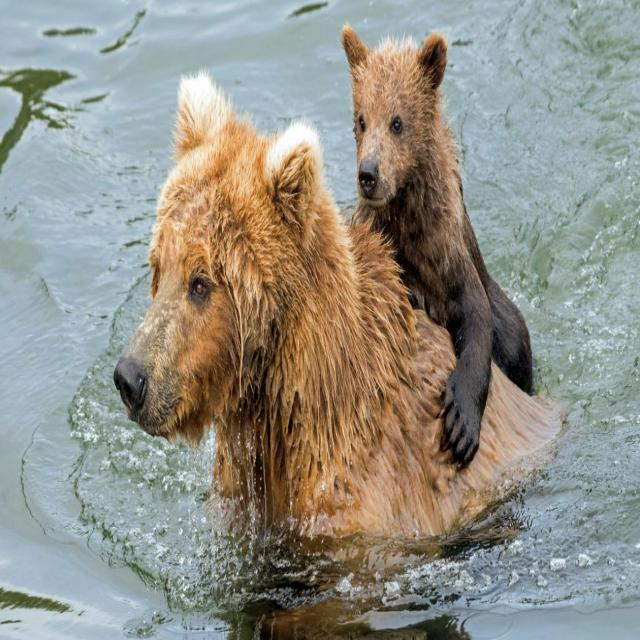Bear: (113, 76, 565, 640), (340, 26, 536, 474)
